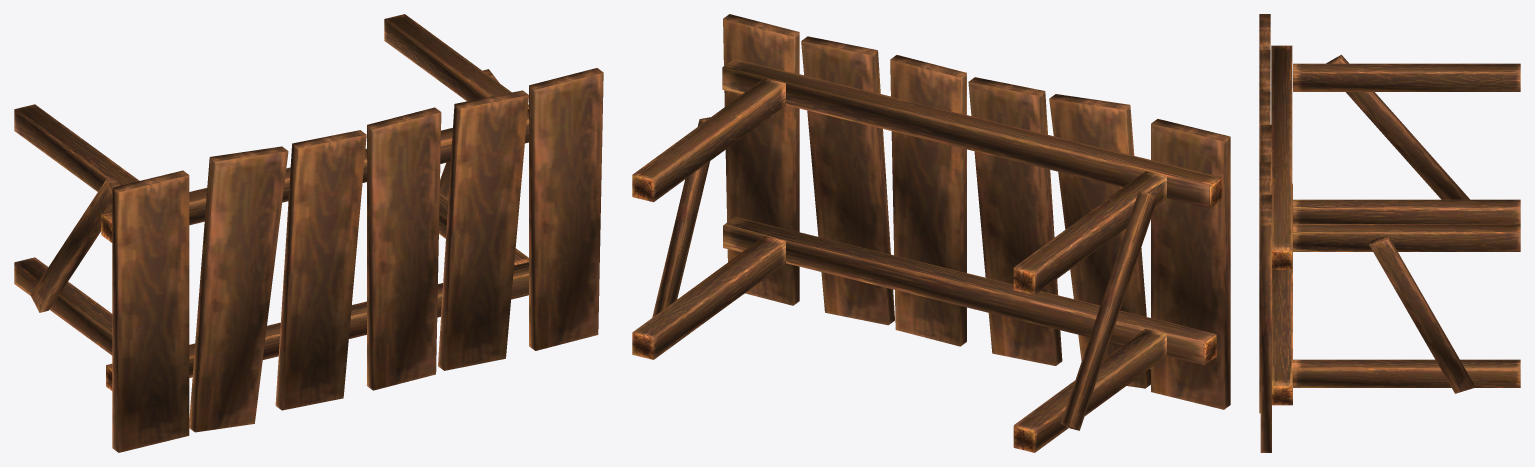
The model's file is INST_SWORDLIGHT_FLOORPLATA.fbx.
3 views of the same model, side by side, from view 1: azimuth 30°, elevation 25°; view 2: azimuth 150°, elevation 25°; view 3: azimuth 270°, elevation 25° (orthographic). The views are drawn at different scales.
Visible parts, largest first — view 1: INST_SWORDLIGHT_FLOORPLATA; view 2: INST_SWORDLIGHT_FLOORPLATA; view 3: INST_SWORDLIGHT_FLOORPLATA.
Boxes of the visible parts, x1,y1,x2,y2 form: INST_SWORDLIGHT_FLOORPLATA: (14, 14, 603, 452); INST_SWORDLIGHT_FLOORPLATA: (632, 14, 1230, 452); INST_SWORDLIGHT_FLOORPLATA: (1259, 14, 1520, 452).
Bounding box in the file's own units: 37811 × 20213 × 19860.
2 materials, 2 textured.
